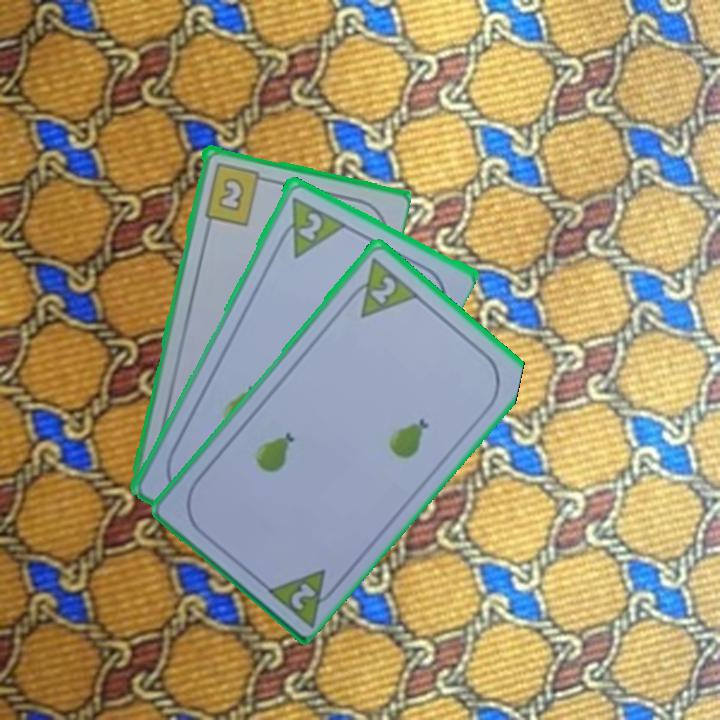2b: (200, 158, 271, 228)
2p: (341, 253, 422, 320), (286, 578, 319, 612), (295, 208, 325, 243)
